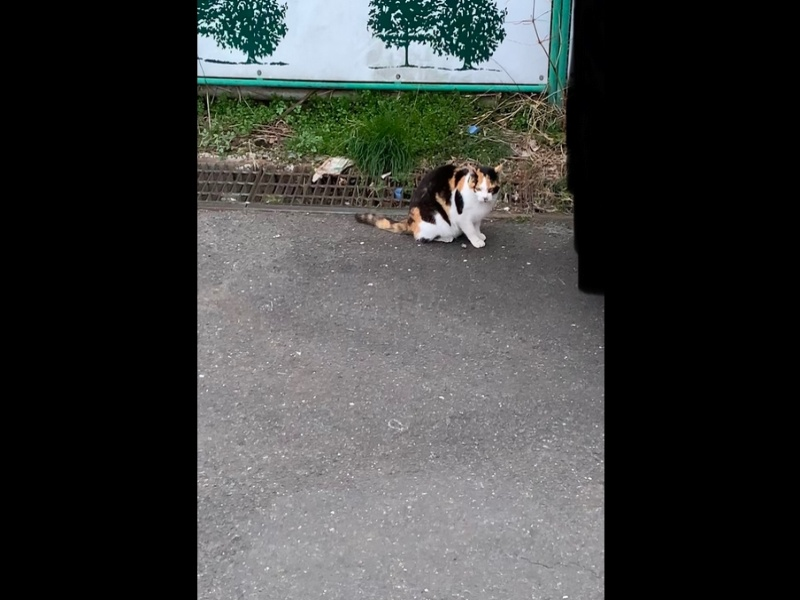cat: (353, 159, 505, 255)
